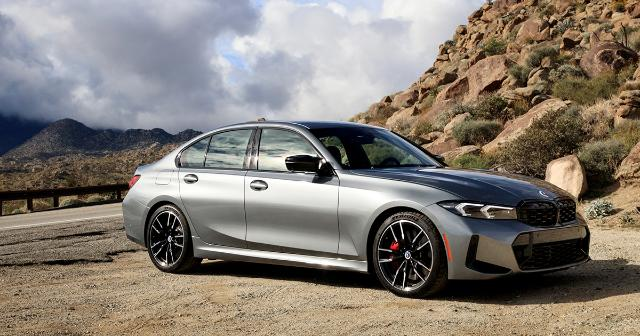bmw: (121, 120, 591, 298)
